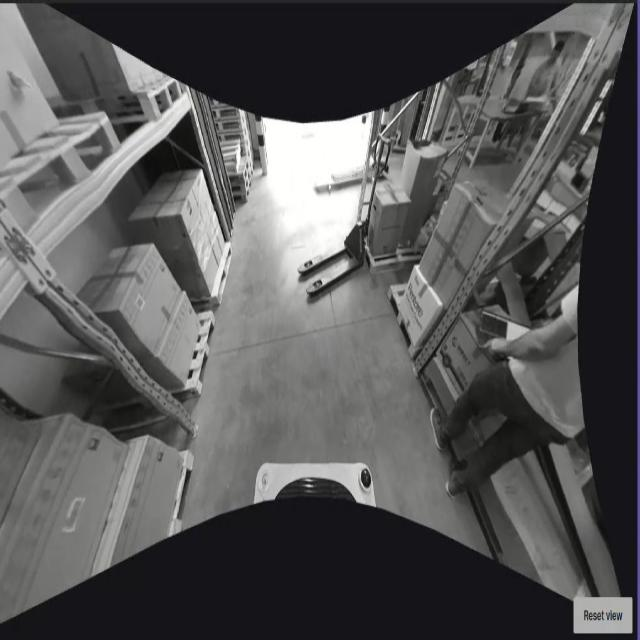Pallets-and-forklifts: (0, 107, 131, 290), (143, 75, 191, 125), (188, 317, 218, 395), (210, 239, 237, 300)
forlift: (296, 135, 394, 307)
